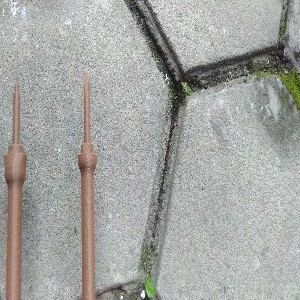obeng: (76, 75, 98, 300)
solder: (3, 75, 27, 300)
